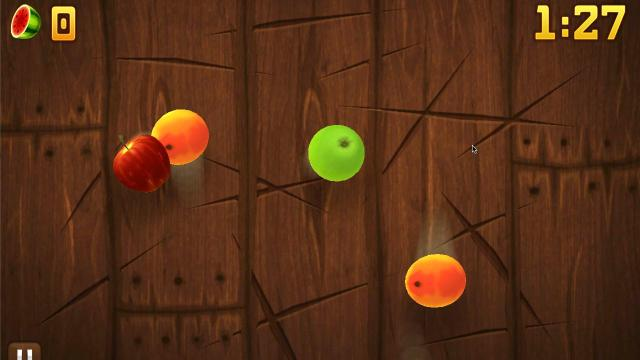fruit: (112, 131, 172, 193), (307, 123, 365, 181), (150, 108, 208, 166), (404, 253, 466, 307)
ignore: (10, 4, 42, 40)
